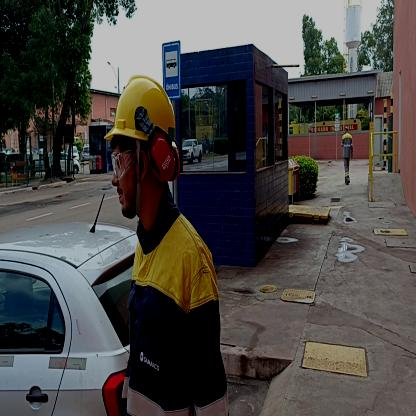C_eletrica: (126, 235, 223, 416)
Capacete: (112, 73, 175, 141)
